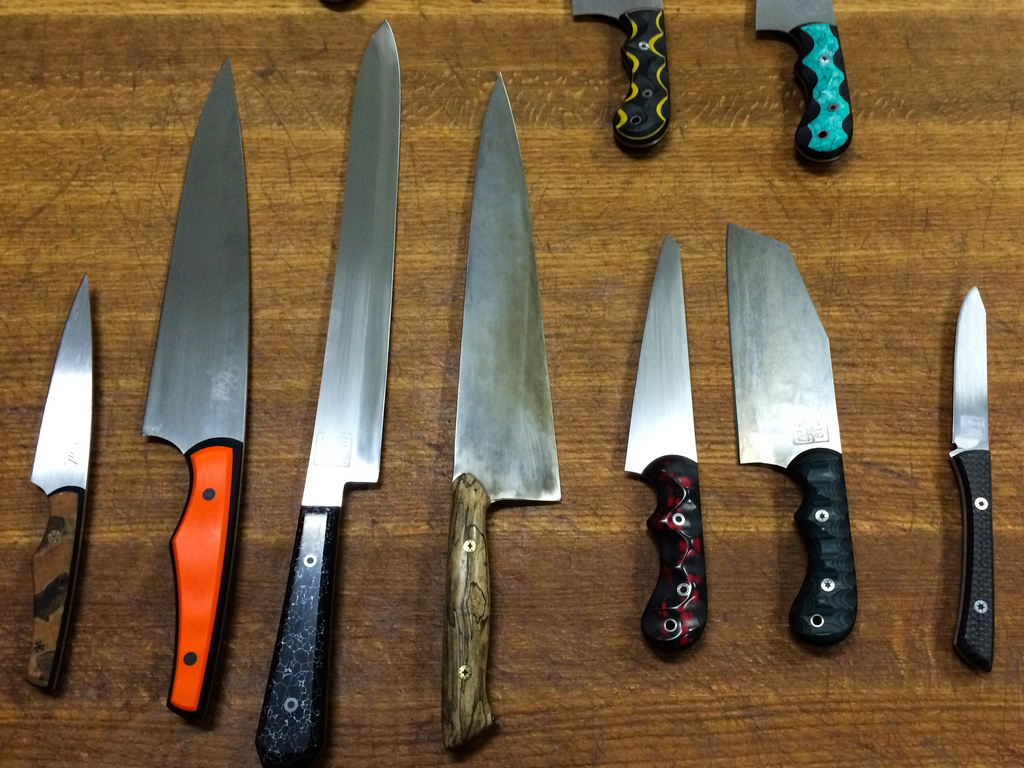knife: (256, 16, 402, 767), (436, 66, 561, 759), (138, 55, 253, 715), (728, 222, 865, 652), (622, 231, 712, 655), (26, 272, 95, 695), (951, 276, 996, 675), (569, 0, 676, 159)
